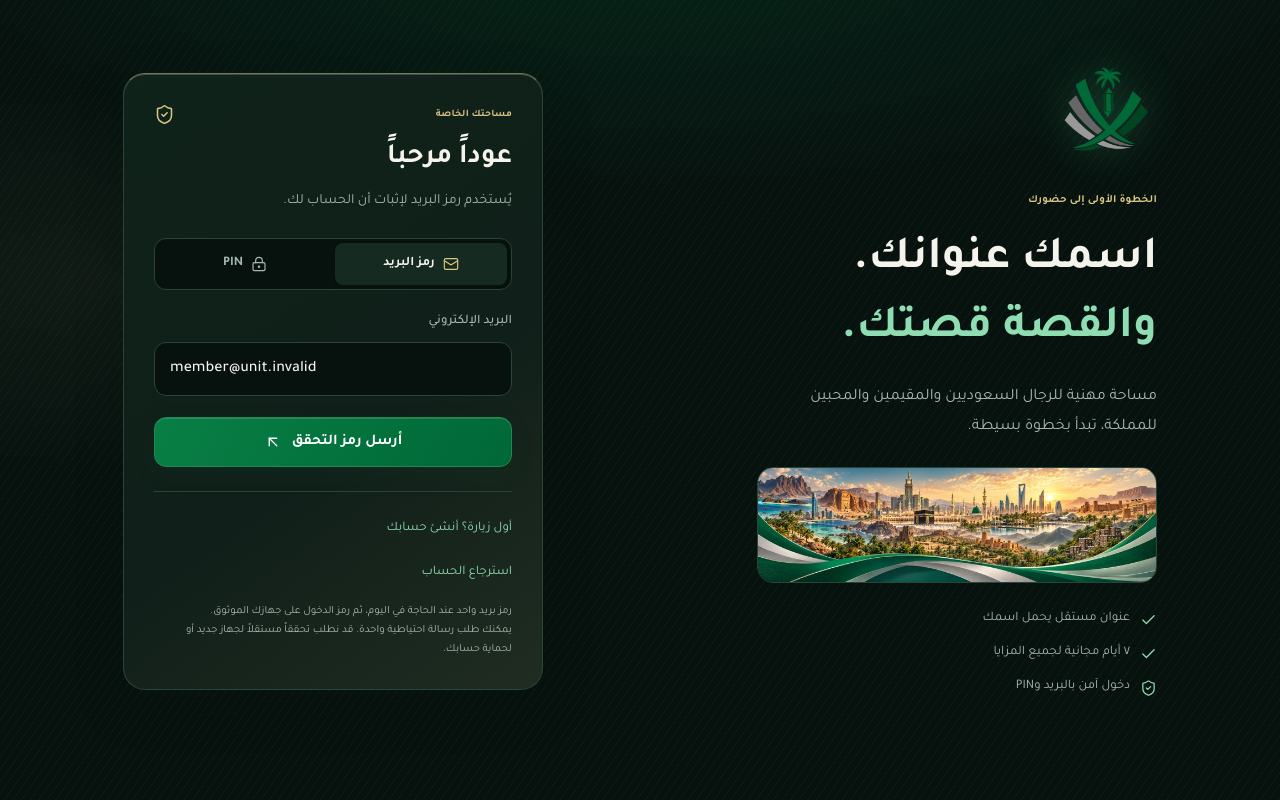
Test case: Accessible notification inbox and in-place return › requests a single explicit backup and has no free repeated-resend button
The width and height of the screenshot is (1280, 800).
Submit the form, box [154,311,512,467]
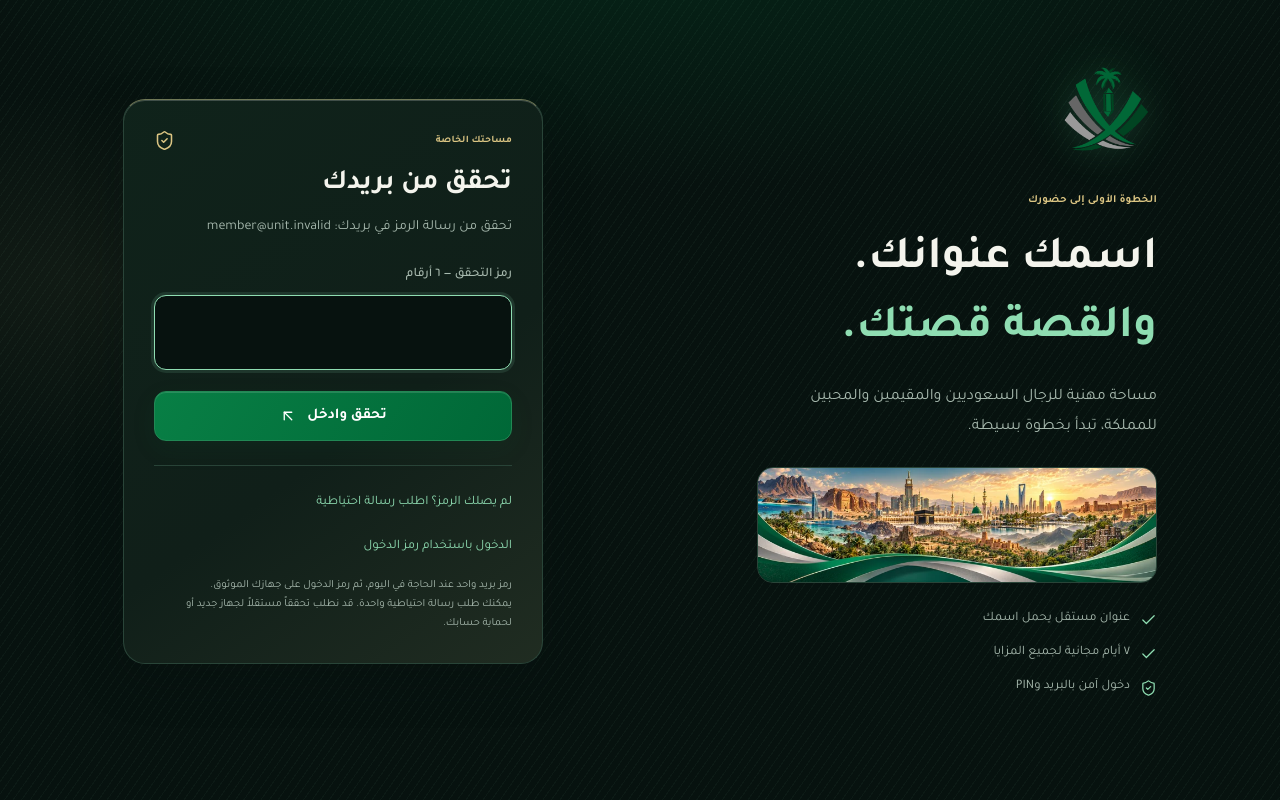
Click the button "لم يصلك الرمز؟ اطلب رسالة احتياطية".
click(333, 504)  # box [154,484,512,524]
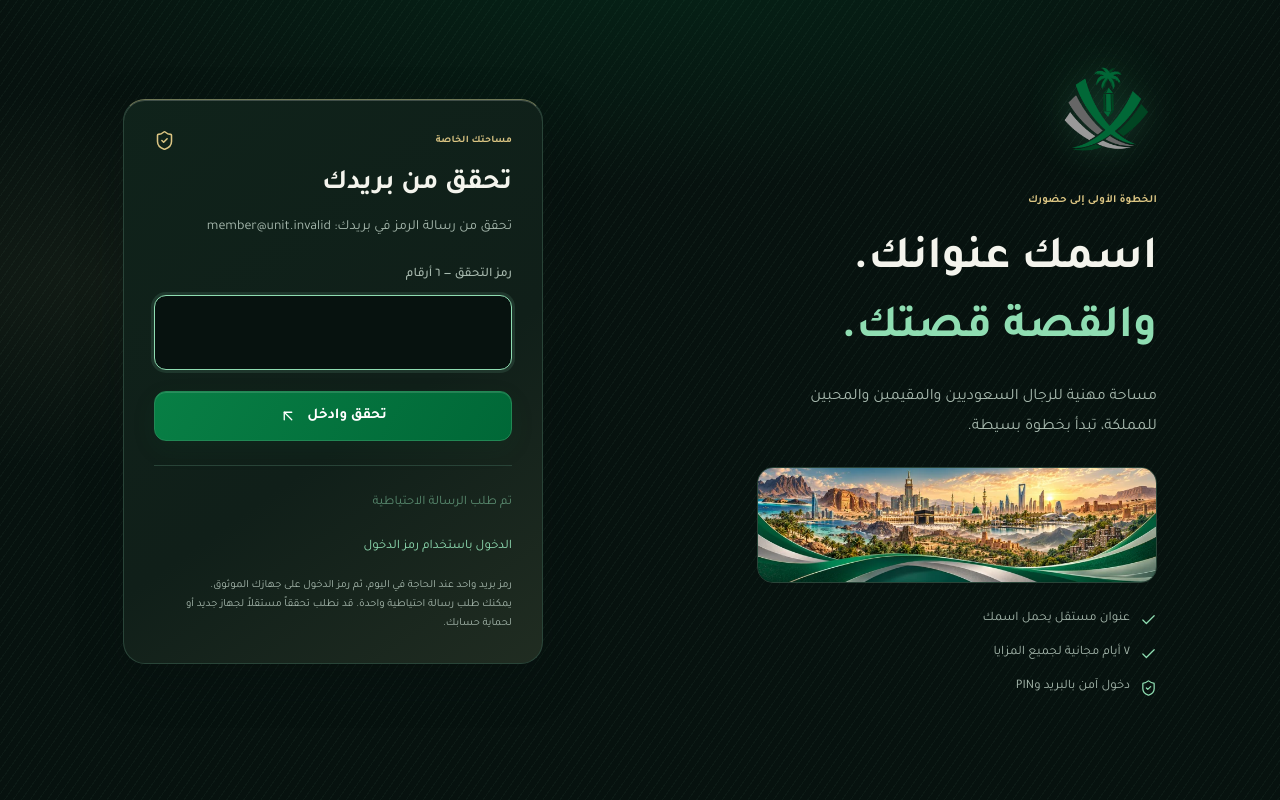
Now the button "تم طلب الرسالة الاحتياطية" is disabled, box [154,484,512,524]
